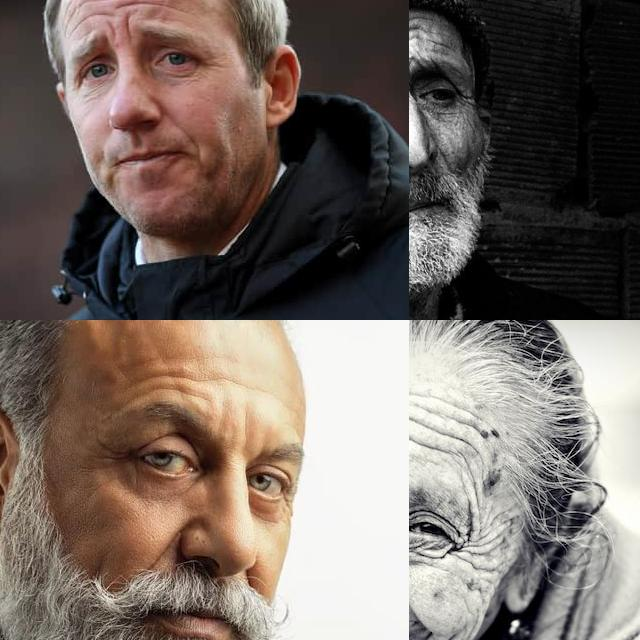crows_feet: (448, 530, 488, 564), (92, 440, 132, 470), (278, 484, 294, 522), (456, 86, 472, 112)
forehead: (135, 363, 221, 399), (409, 408, 467, 453), (224, 371, 276, 399), (461, 463, 484, 519), (66, 0, 96, 25), (115, 0, 171, 13), (409, 15, 424, 47)
frown_line: (234, 407, 252, 465), (119, 13, 137, 44), (104, 16, 118, 46)
gummy_smile: (144, 521, 180, 575), (180, 124, 204, 158), (409, 579, 418, 618)
masseter: (465, 556, 495, 594)
